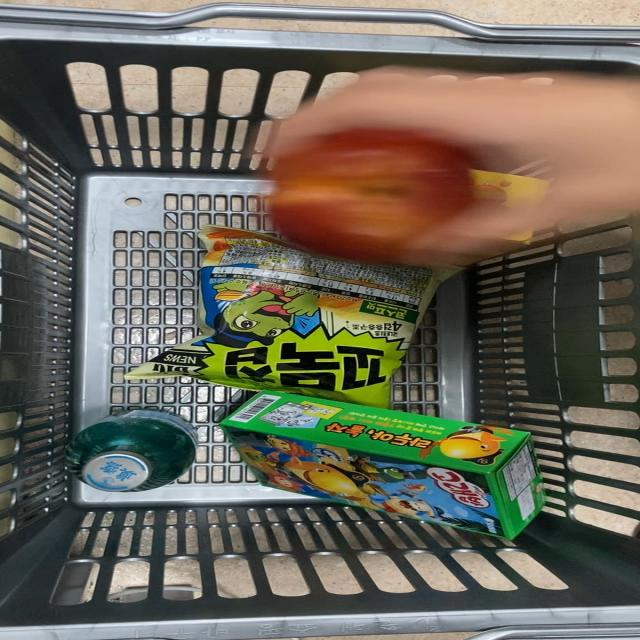ggobukchip: (134, 227, 445, 408)
goraebob: (221, 393, 568, 538)
jinro: (54, 404, 218, 498)
plum: (263, 136, 482, 260)
